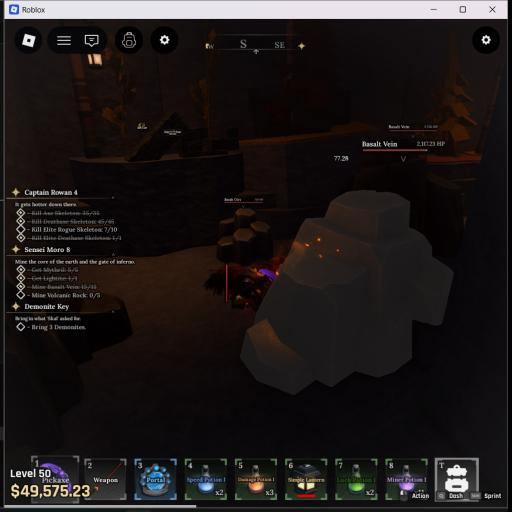player: (203, 256, 286, 311)
rock: (240, 191, 452, 394), (4, 294, 132, 453), (352, 159, 463, 257), (217, 210, 273, 265)
